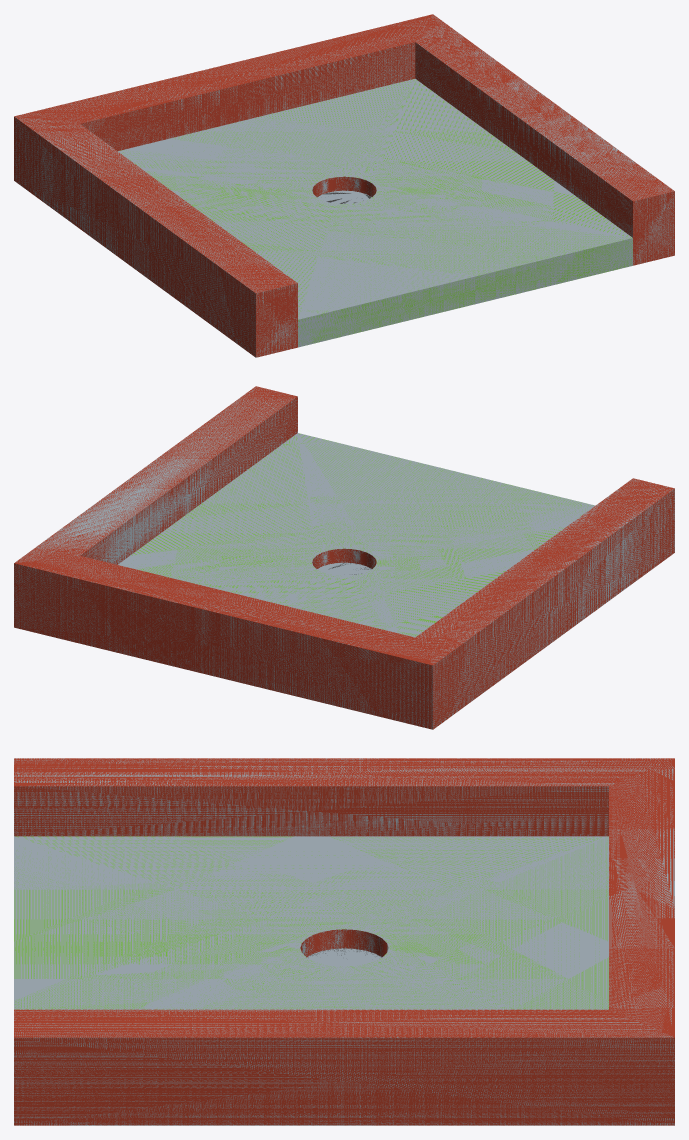
Rendered from Hole_square_01.fbx.
3 renders of one model, top to bottom at view 1: azimuth 30°, elevation 25°; view 2: azimuth 150°, elevation 25°; view 3: azimuth 270°, elevation 25°, orthographic. The views are drawn at different scales.
Visible parts, largest first — view 1: Mesh1_Hole_square Model; view 2: Mesh1_Hole_square Model; view 3: Mesh1_Hole_square Model.
Part boxes in pixels (box(x1,y1,x2,y2)): Mesh1_Hole_square Model: box(14, 14, 674, 357); Mesh1_Hole_square Model: box(14, 386, 674, 729); Mesh1_Hole_square Model: box(14, 758, 674, 1125).
Bounding box in the file's own units: 3 × 0.44 × 3.
